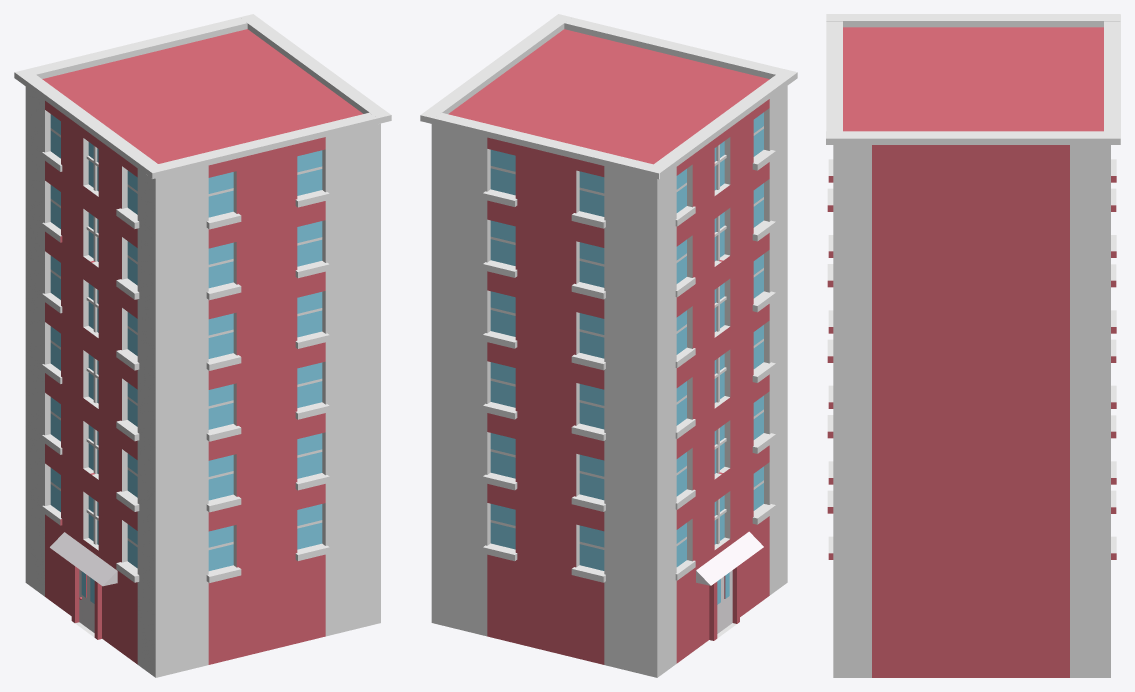
Rendered from prédio 2.fbx.
3 renders of one model, left to right at view 1: azimuth 30°, elevation 25°; view 2: azimuth 150°, elevation 25°; view 3: azimuth 270°, elevation 25°, orthographic. The views are drawn at different scales.
Parts seen in each view (by area): view 1: Cube; view 2: Cube; view 3: Cube.
Part boxes in pixels (left/top/right/bottom): Cube: left=14, top=14, right=391, bottom=677; Cube: left=420, top=14, right=797, bottom=677; Cube: left=826, top=14, right=1120, bottom=677.
Size of the model in its own units: 1097 by 2159 by 1062.
